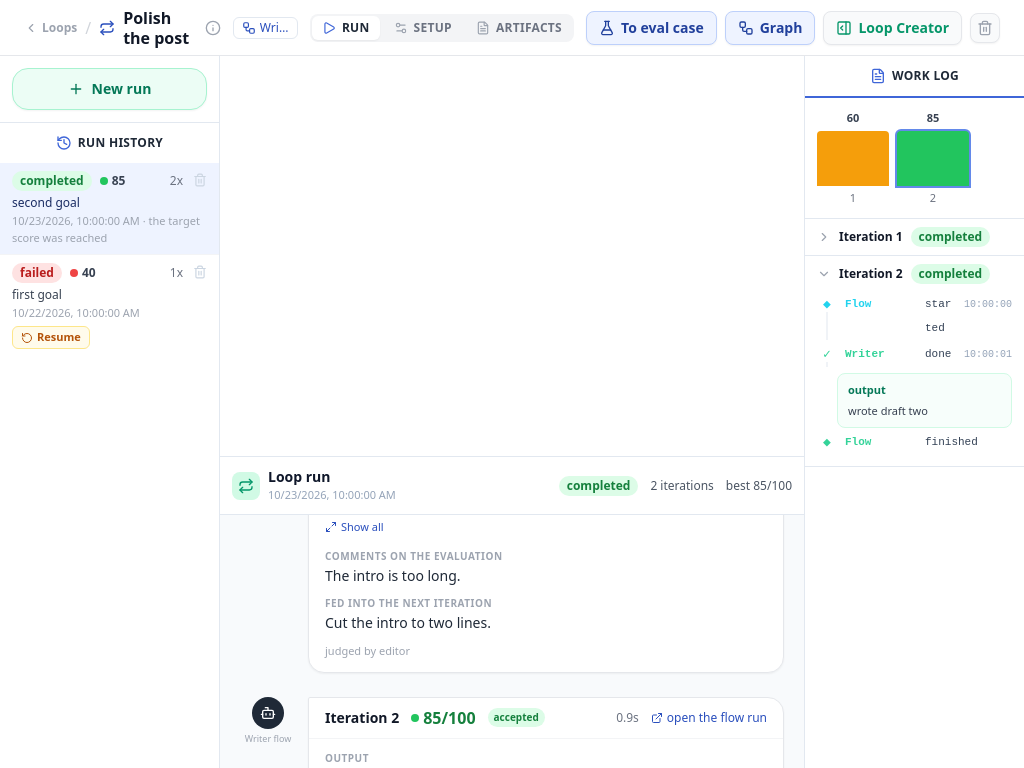
Scenario: LoopDetail: a loop on a page of its own › empties the chat for a new run from the button over the history
(page scrolled)
Click the button with test id "loop-new-run".
click(110, 89)  # box [12,68,207,110]
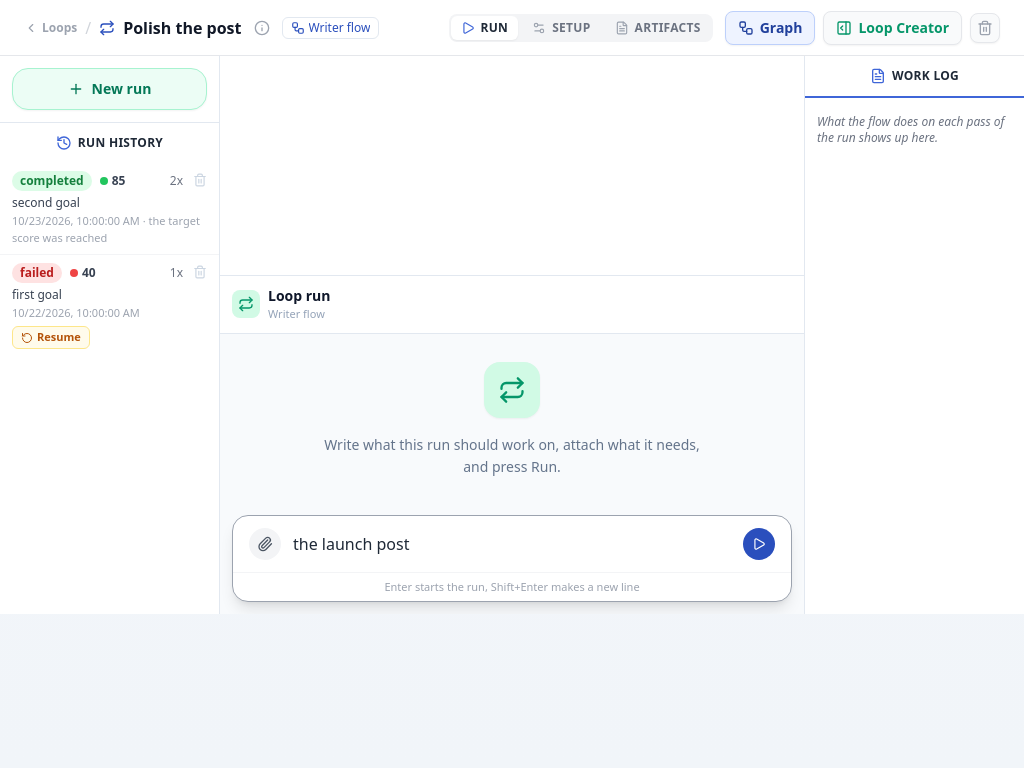
Check: the element with test id "loop-evaluation-1" is gone
Check: the text "press Run" is shown, box [324,434,700,476]
